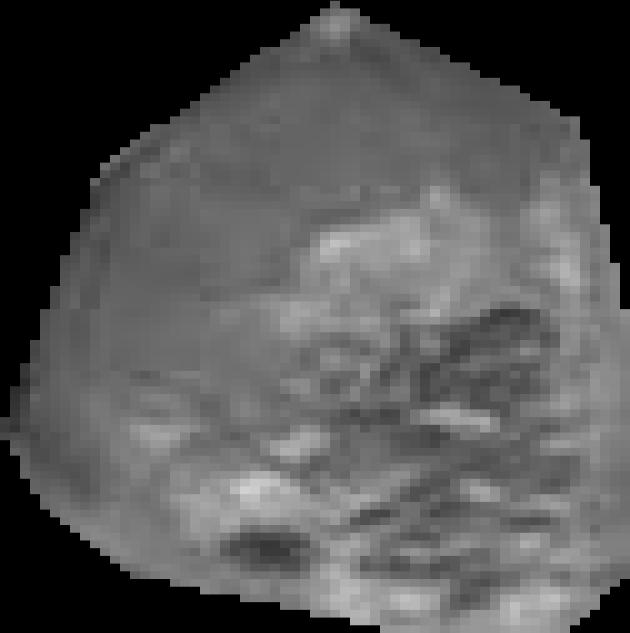tumor_moderate_chance: (0, 1, 630, 633)
